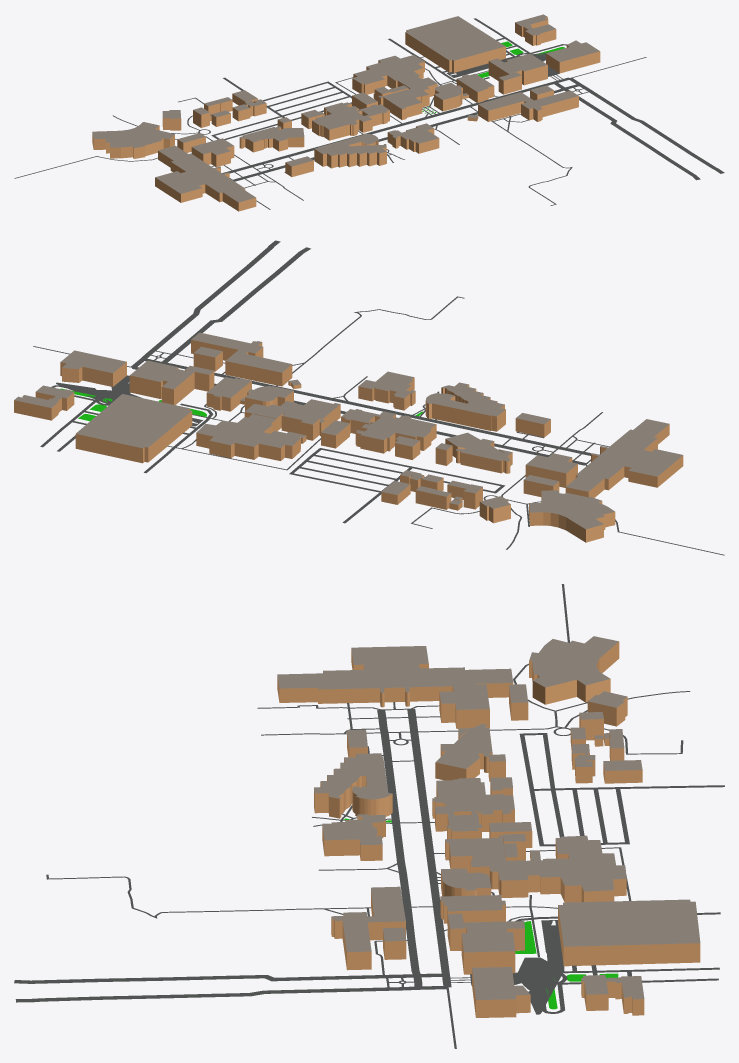
File: StemCampus.fbx
The picture shows the model from 3 angles, top to bottom: view 1: azimuth 30°, elevation 25°; view 2: azimuth 150°, elevation 25°; view 3: azimuth 270°, elevation 25°; orthographic projection. The views are drawn at different scales.
Visible parts, largest first — view 1: map_4.osm_buildings, map_4.osm_roads_pedestrian, map_4.osm_paths_footway, map_4.osm_roads_service, map_4.osm_areas_pedestrian; view 2: map_4.osm_buildings, map_4.osm_roads_pedestrian, map_4.osm_roads_service, map_4.osm_paths_footway, map_4.osm_areas_pedestrian; view 3: map_4.osm_buildings, map_4.osm_roads_pedestrian, map_4.osm_paths_footway, map_4.osm_roads_service, map_4.osm_areas_pedestrian.
Boxes of the visible parts, <box> form: map_4.osm_buildings: <box>92,14,600,211</box>; map_4.osm_roads_pedestrian: <box>222,77,724,181</box>; map_4.osm_paths_footway: <box>14,56,646,209</box>; map_4.osm_roads_service: <box>211,18,567,139</box>; map_4.osm_areas_pedestrian: <box>447,52,559,77</box>; map_4.osm_buildings: <box>14,332,683,542</box>; map_4.osm_roads_pedestrian: <box>131,240,591,465</box>; map_4.osm_roads_service: <box>40,385,505,523</box>; map_4.osm_paths_footway: <box>33,296,724,555</box>; map_4.osm_areas_pedestrian: <box>56,375,202,426</box>; map_4.osm_buildings: <box>277,636,700,1017</box>; map_4.osm_roads_pedestrian: <box>14,709,451,1002</box>; map_4.osm_paths_footway: <box>46,584,690,1048</box>; map_4.osm_roads_service: <box>515,733,724,1013</box>; map_4.osm_areas_pedestrian: <box>470,920,564,1014</box>.
Size of the model in its own units: 95337 by 2123 by 61611.
